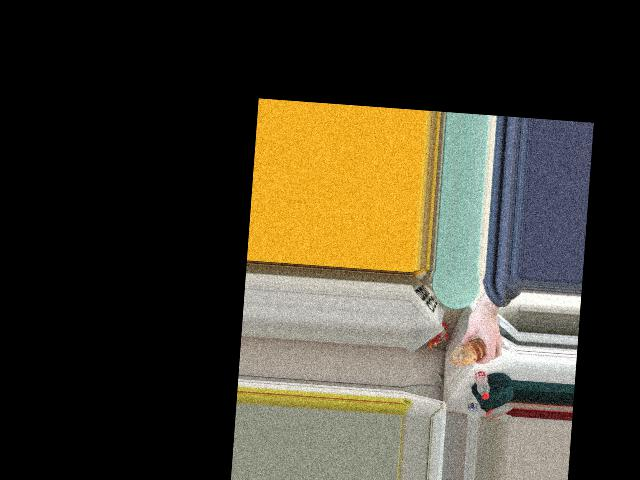sweet_potato: (456, 336, 488, 368)
